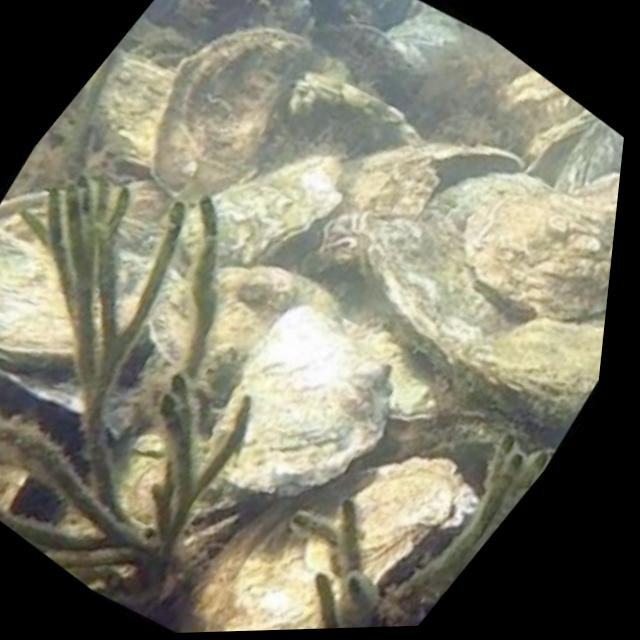Oyster-Closed: (356, 211, 508, 384), (0, 225, 150, 352), (178, 158, 339, 262), (463, 311, 605, 426), (500, 61, 580, 132), (525, 109, 597, 166)
Oyster-Indeterminate: (175, 463, 477, 633), (211, 299, 398, 490), (141, 261, 338, 396), (153, 29, 308, 198), (467, 175, 620, 320), (554, 119, 624, 186)
Oyster-Open: (422, 142, 550, 232)
